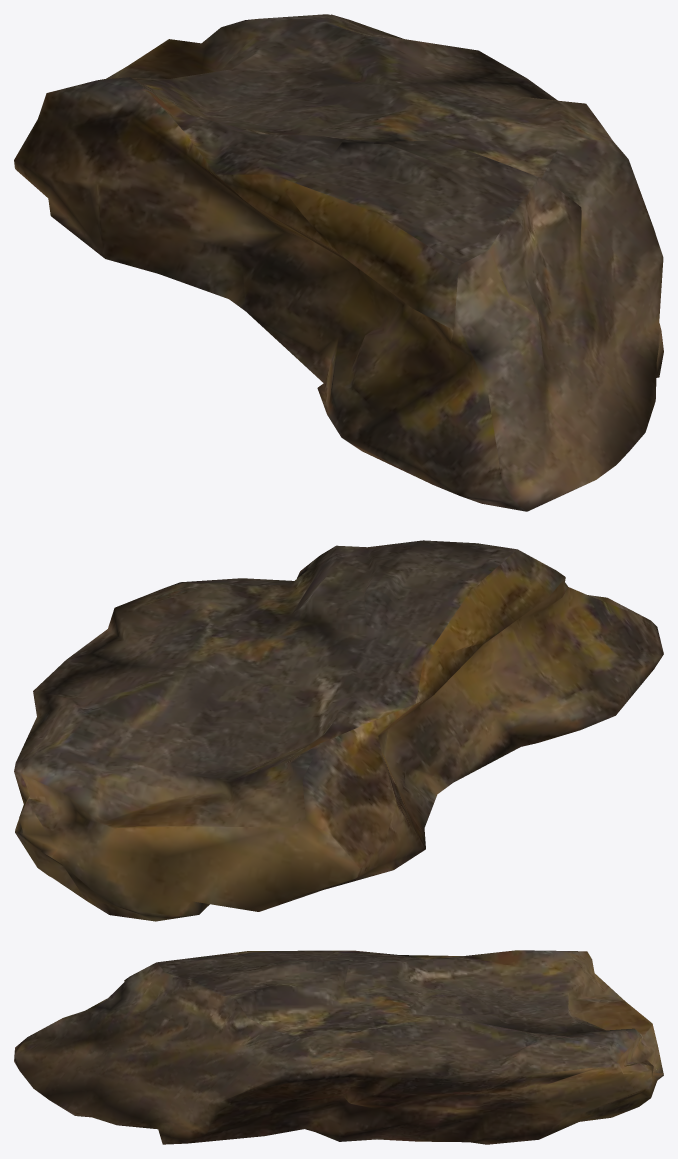
File: rock_09.glb
3 renders of one model, top to bottom at view 1: azimuth 30°, elevation 25°; view 2: azimuth 150°, elevation 25°; view 3: azimuth 270°, elevation 25°, orthographic. The views are drawn at different scales.
Visible parts, largest first — view 1: rock_09_LOD0; view 2: rock_09_LOD0; view 3: rock_09_LOD0.
Part boxes in pixels (box(x1,y1,x2,y2)): rock_09_LOD0: box(14, 14, 663, 511); rock_09_LOD0: box(14, 540, 663, 921); rock_09_LOD0: box(14, 950, 663, 1144).
Bounding box in the file's own units: 0.0738 × 0.0326 × 0.1442.
1 material, 1 textured.
